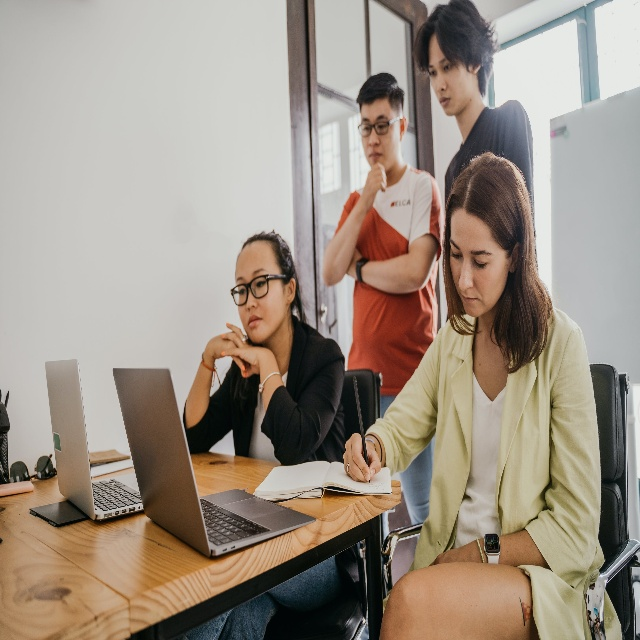Gafas: (231, 269, 286, 306), (9, 456, 55, 484), (358, 115, 402, 139)
Sin_guantes: (221, 323, 258, 379), (342, 436, 383, 484), (204, 332, 243, 375), (431, 540, 484, 565), (362, 164, 386, 203), (346, 240, 358, 280)
